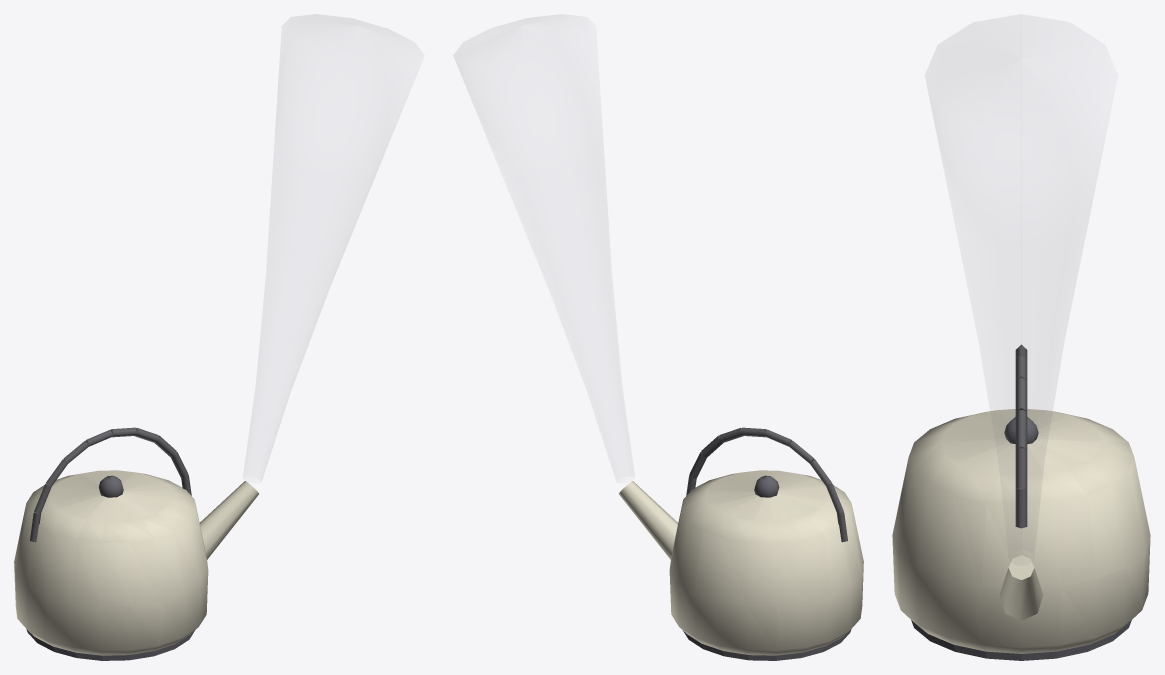
The model's file is cabin_kettle_a.glb.
The picture shows the model from 3 angles, left to right: view 1: azimuth 30°, elevation 25°; view 2: azimuth 150°, elevation 25°; view 3: azimuth 270°, elevation 25°; orthographic projection. The views are drawn at different scales.
Visible parts, largest first — view 1: body; view 2: body; view 3: body, steam.
Part boxes in pixels (left/top/right/bottom): body: left=14, top=427, right=258, bottom=660; body: left=619, top=427, right=863, bottom=660; body: left=892, top=344, right=1150, bottom=660; steam: left=1021, top=14, right=1021, bottom=549.
Bounding box in the file's own units: 0.5507 × 0.7342 × 0.24.
